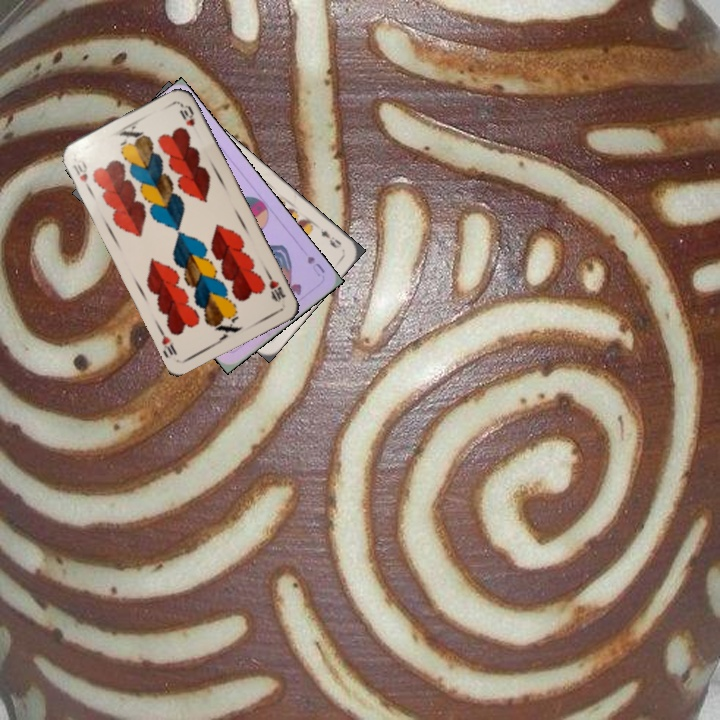E9: (316, 224, 345, 251)
H10: (69, 155, 94, 193), (263, 269, 288, 305)
SU: (303, 252, 328, 279)
